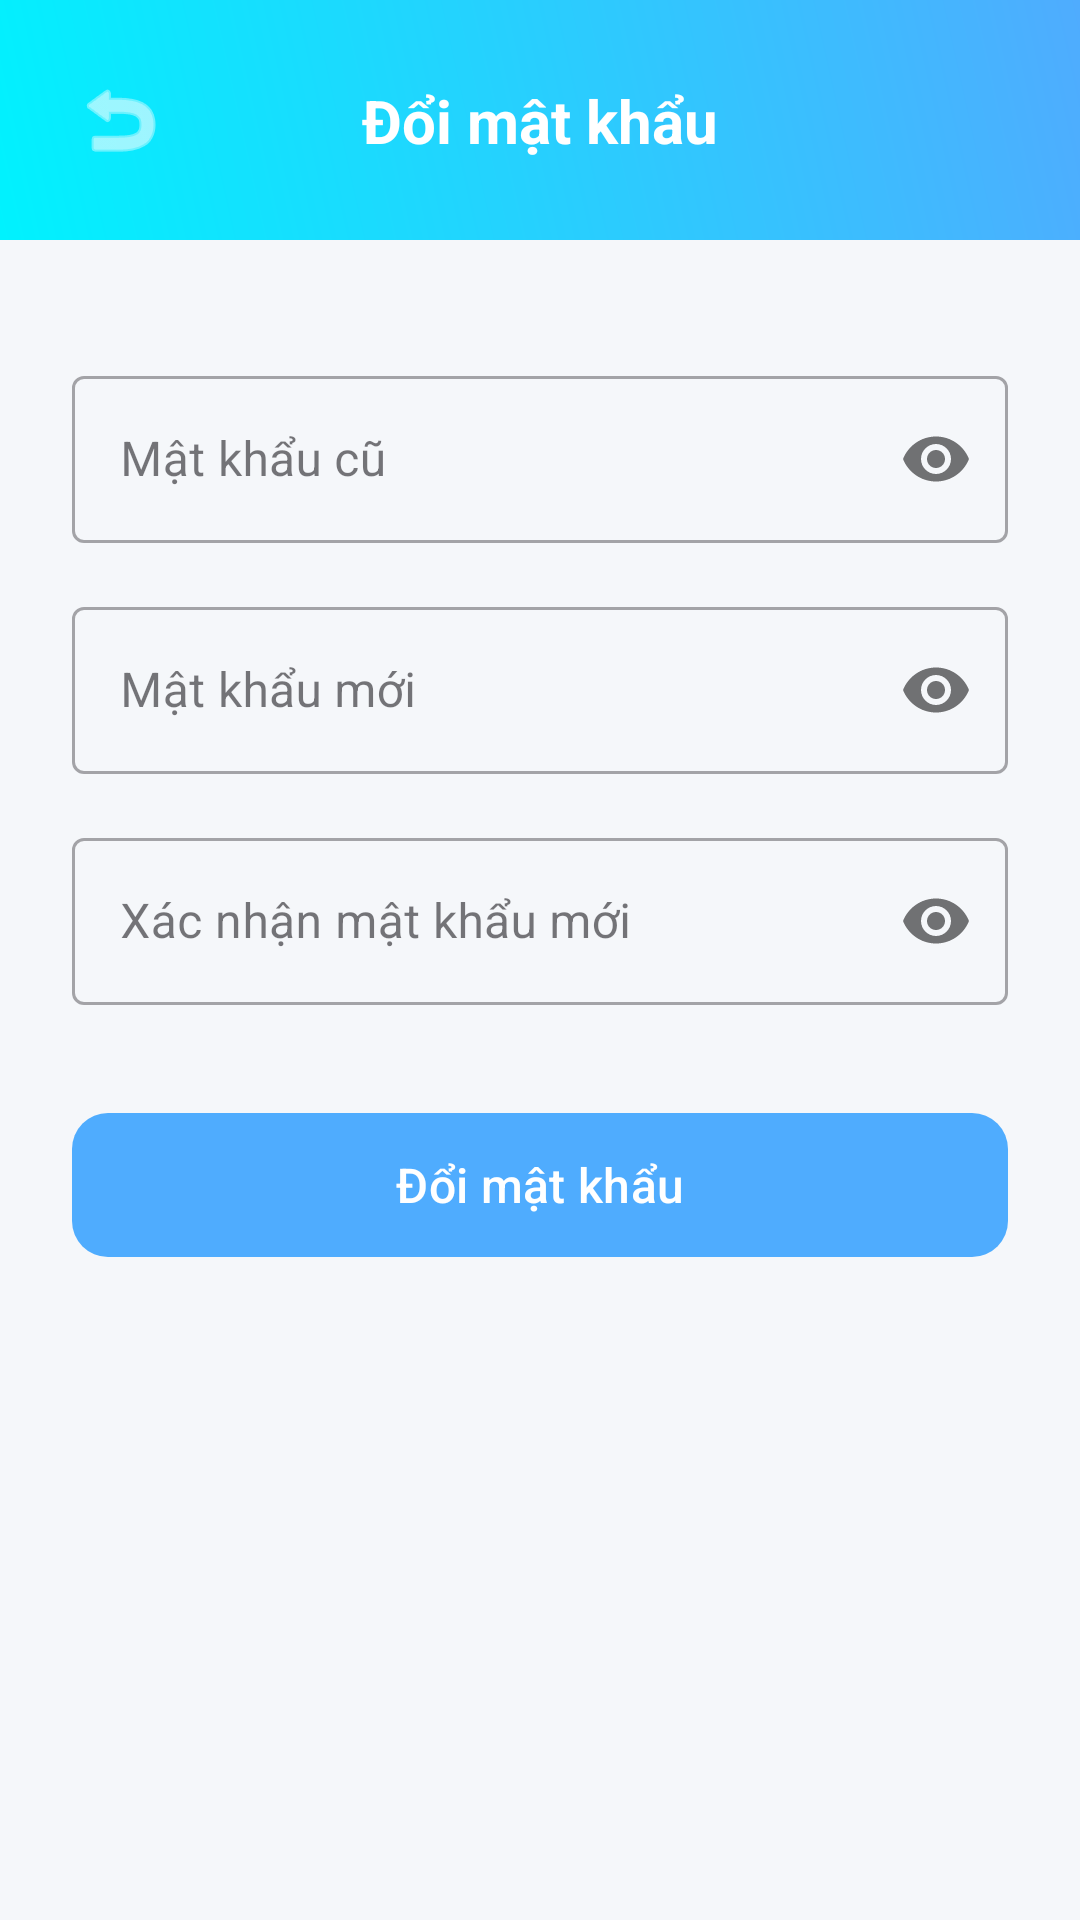

Locate icon controls on the screen. Image size 1080x1920, boxes as (x1, y1, x2, y2).
Quay lại: (87, 89, 156, 152)
